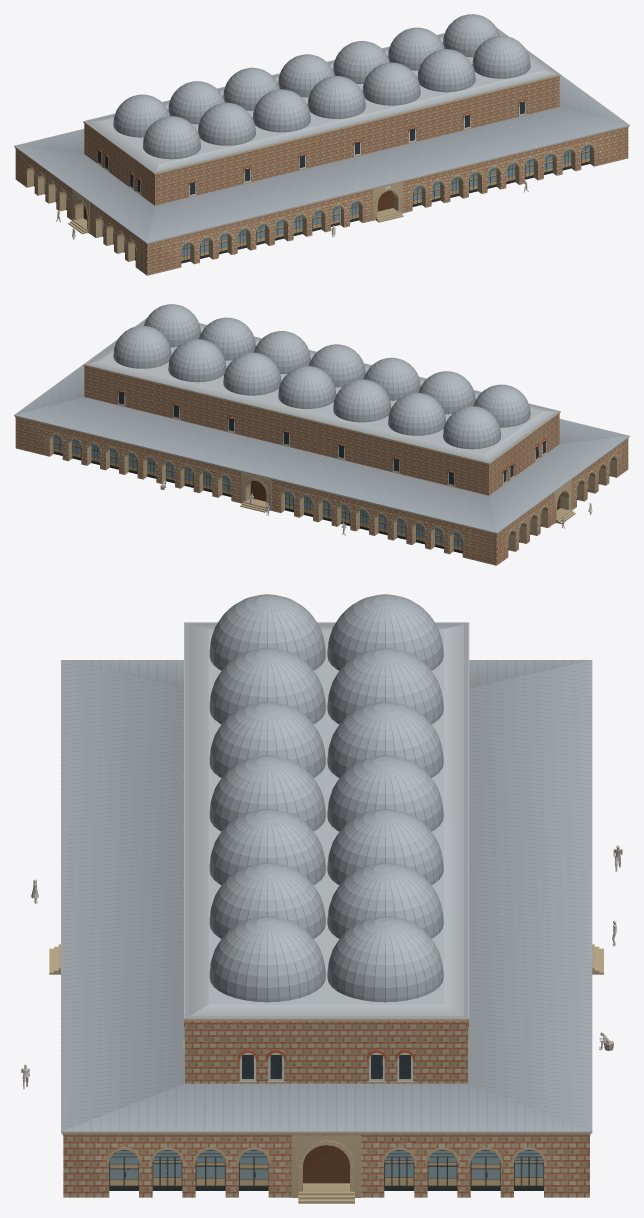
The model's file is bedesten_v04.glb.
3 views of the same model, one above another, from view 1: azimuth 30°, elevation 25°; view 2: azimuth 150°, elevation 25°; view 3: azimuth 270°, elevation 25° (orthographic). The views are drawn at different scales.
Parts seen in each view (by area): view 1: Cati, Kubbeler, Dukkanlar, Govde, Sacak, Pencereler, Kapilar, Dukkan_Kapilari; view 2: Cati, Kubbeler, Dukkanlar, Govde, Sacak, Pencereler, Kapilar, Dukkan_Kapilari; view 3: Cati, Kubbeler, Dukkanlar, Govde, Sacak, Kapilar, Pencereler, Dukkan_Kapilari.
Part boxes in pixels (x1=…): Cati: x1=14, y1=31, x2=629, y2=243; Kubbeler: x1=113, y1=14, x2=530, y2=159; Dukkanlar: x1=15, y1=127, x2=628, y2=275; Govde: x1=84, y1=28, x2=559, y2=205; Sacak: x1=15, y1=27, x2=628, y2=244; Pencereler: x1=97, y1=99, x2=526, y2=196; Kapilar: x1=68, y1=182, x2=403, y2=234; Dukkan_Kapilari: x1=26, y1=143, x2=595, y2=250; Cati: x1=14, y1=321, x2=629, y2=533; Kubbeler: x1=113, y1=304, x2=530, y2=449; Dukkanlar: x1=15, y1=417, x2=628, y2=565; Govde: x1=84, y1=318, x2=559, y2=495; Sacak: x1=15, y1=317, x2=628, y2=534; Pencereler: x1=117, y1=389, x2=546, y2=486; Kapilar: x1=240, y1=472, x2=575, y2=524; Dukkan_Kapilari: x1=48, y1=433, x2=617, y2=540; Cati: x1=61, y1=624, x2=592, y2=1133; Kubbeler: x1=209, y1=594, x2=443, y2=1002; Dukkanlar: x1=63, y1=1135, x2=589, y2=1197; Govde: x1=185, y1=622, x2=467, y2=1083; Sacak: x1=62, y1=622, x2=590, y2=1135; Kapilar: x1=49, y1=944, x2=603, y2=1203; Pencereler: x1=183, y1=719, x2=469, y2=1082; Dukkan_Kapilari: x1=106, y1=1147, x2=546, y2=1163.
Bounding box in the file's own units: 74.45 × 14.2 × 38.26.
Materials: 13 (5 with a texture image).
